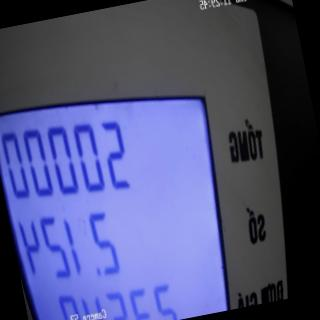screen: (0, 55, 252, 320)
